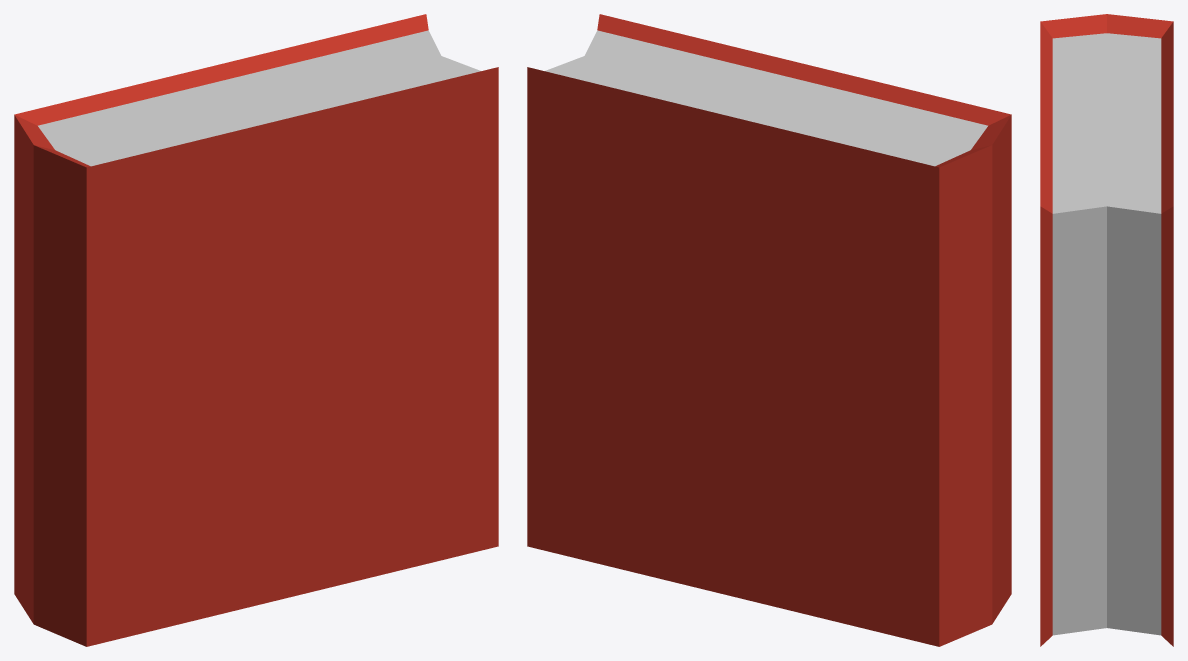
The model's file is book.fbx.
3 renders of one model, left to right at view 1: azimuth 30°, elevation 25°; view 2: azimuth 150°, elevation 25°; view 3: azimuth 270°, elevation 25°, orthographic. The views are drawn at different scales.
Parts seen in each view (by area): view 1: book; view 2: book; view 3: book.
Part boxes in pixels (box(x1,y1,x2,y2)): book: box(14, 14, 498, 646); book: box(527, 14, 1011, 646); book: box(1040, 14, 1173, 646).
Size of the model in its own units: 27.19 by 29.06 by 7.95.
